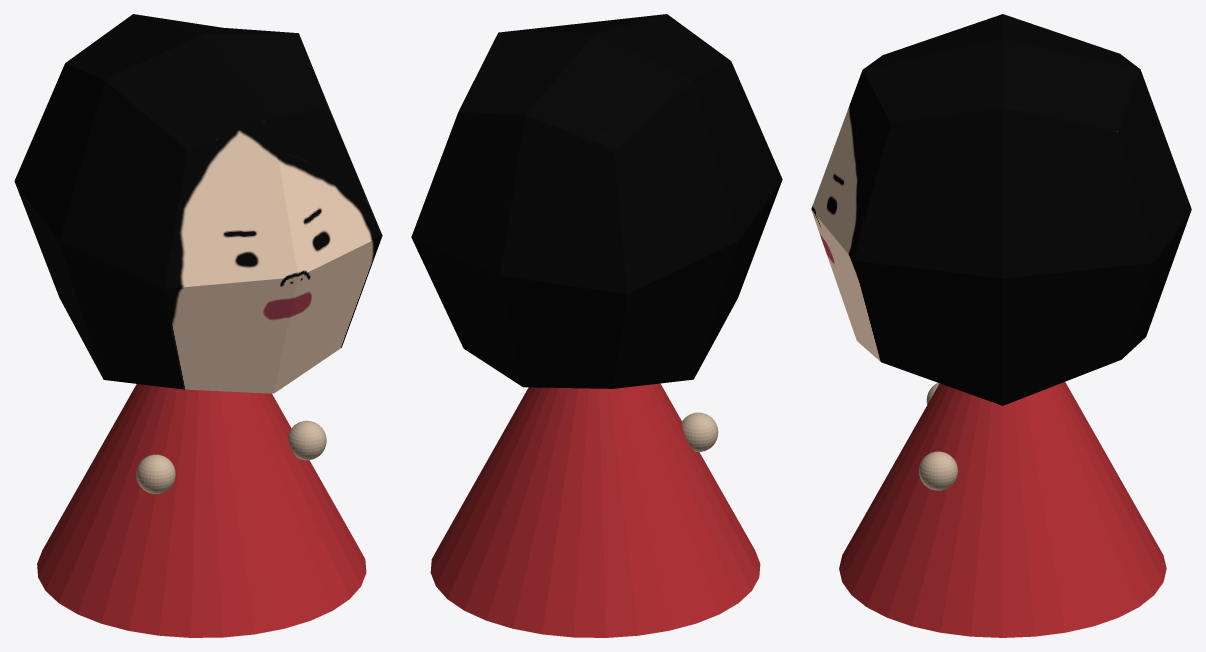
The model's file is host.gltf.
The picture shows the model from 3 angles, left to right: view 1: azimuth 30°, elevation 25°; view 2: azimuth 150°, elevation 25°; view 3: azimuth 270°, elevation 25°; orthographic projection.
Parts seen in each view (by area): view 1: Cube.001, 円錐, 球, 球.001; view 2: Cube.001, 円錐, 球; view 3: Cube.001, 円錐, 球.001.
Boxes of the visible parts, x1,y1,x2,y2 form: Cube.001: (14, 14, 382, 393); 円錐: (37, 384, 366, 637); 球: (136, 454, 175, 493); 球.001: (288, 420, 326, 460); Cube.001: (411, 14, 782, 388); 円錐: (430, 383, 760, 637); 球: (681, 412, 718, 451); Cube.001: (811, 14, 1191, 405); 円錐: (839, 382, 1166, 637); 球.001: (918, 451, 957, 490).
Size of the model in its own units: 2 by 3.57 by 2.32.
4 materials, 4 textured.
